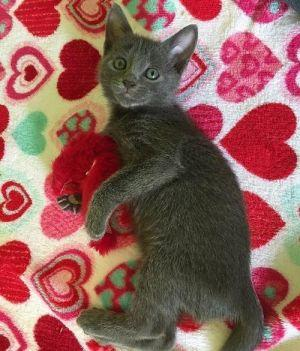rblue: (77, 1, 202, 138)
